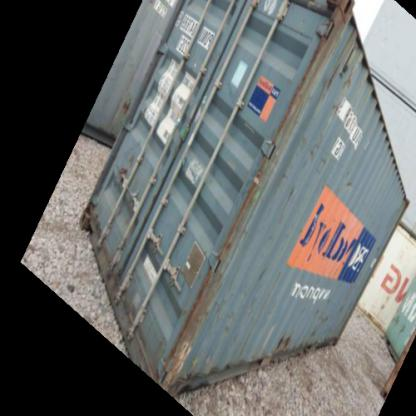Damage: (205, 284, 257, 366), (163, 332, 199, 385), (291, 129, 332, 171), (342, 26, 364, 98), (306, 300, 330, 342), (322, 50, 340, 102), (336, 161, 360, 192), (274, 324, 296, 352), (254, 258, 268, 292), (284, 181, 298, 211)
